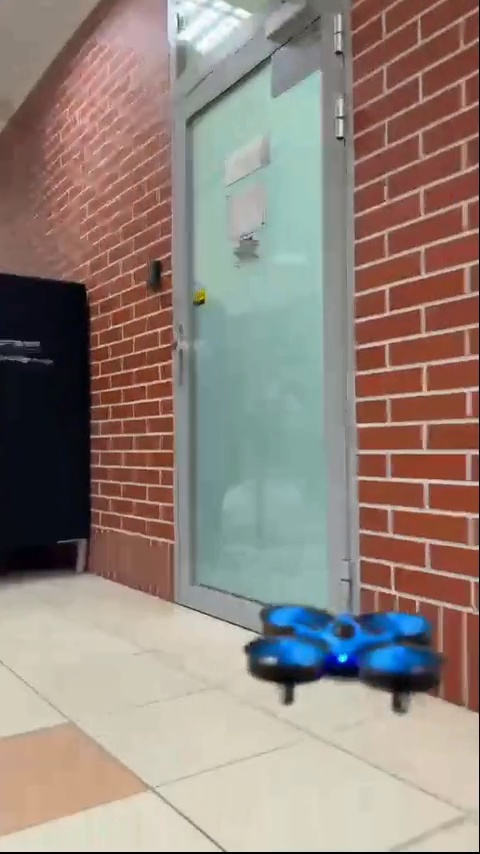drone: (245, 601, 436, 719)
